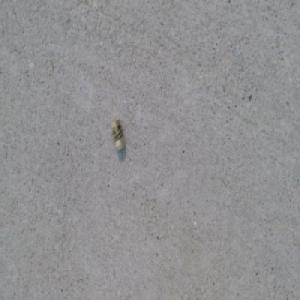BoltNutSet: (110, 120, 125, 153)
